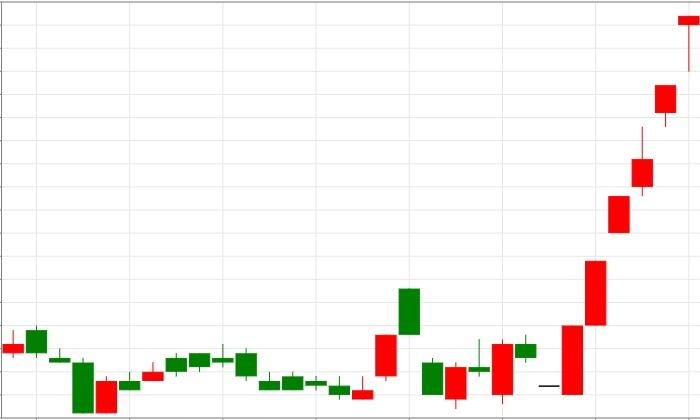three_white_soldiers_rise: (398, 195, 631, 410)
